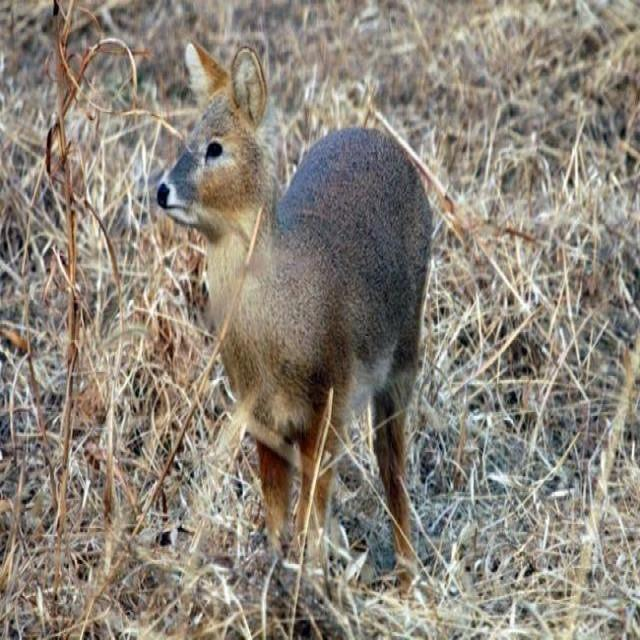deer: (148, 33, 492, 619)
